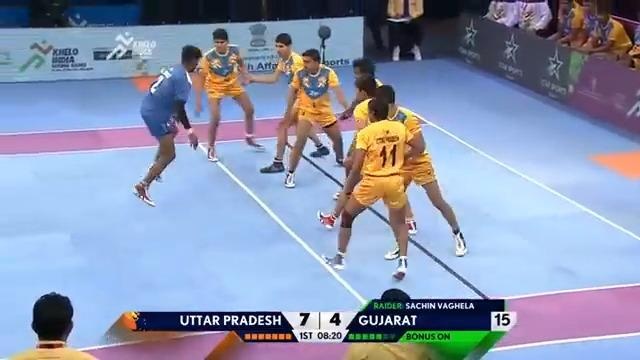Player: (336, 57, 467, 257), (321, 96, 417, 280), (240, 32, 329, 173), (191, 27, 265, 162), (283, 48, 349, 188), (7, 291, 99, 359)
Raider: (132, 43, 202, 207)
referee: (362, 0, 387, 51)
